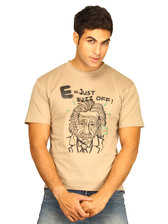clothoes: (19, 54, 151, 194)
